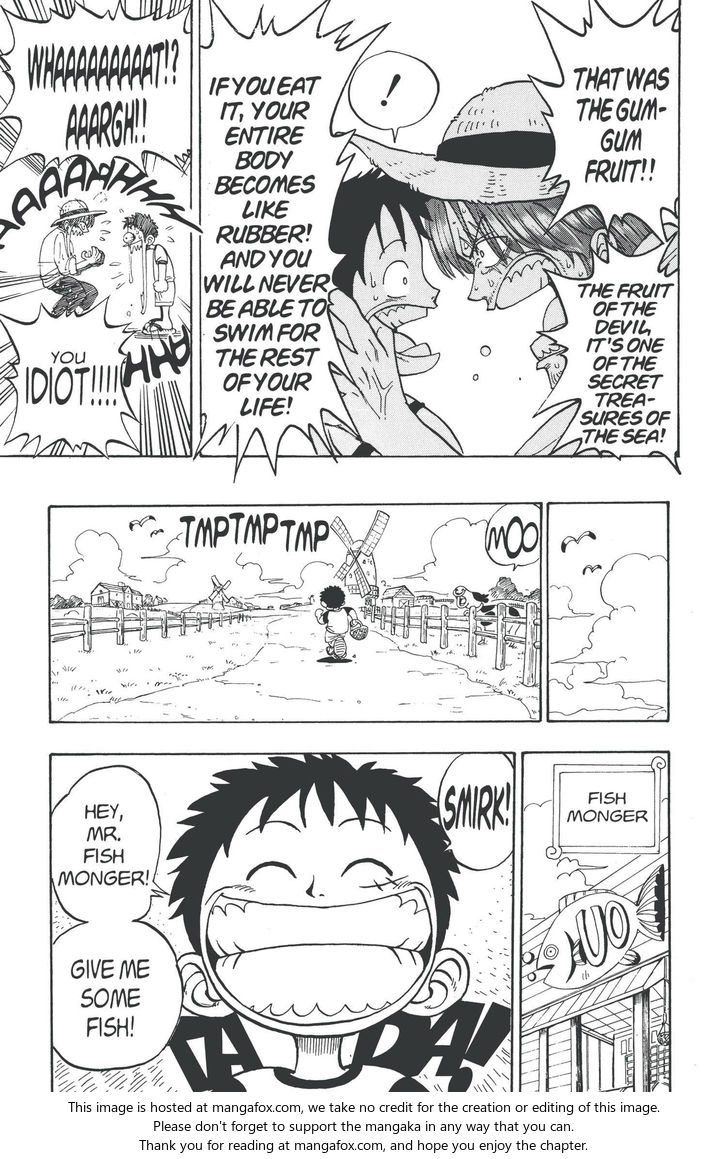bubble: (193, 0, 390, 478), (528, 0, 682, 242), (530, 233, 681, 475), (0, 0, 193, 176), (0, 296, 139, 461), (51, 920, 183, 1069), (51, 765, 170, 923), (438, 752, 515, 871), (347, 50, 440, 143), (556, 768, 658, 851), (485, 502, 542, 571)
